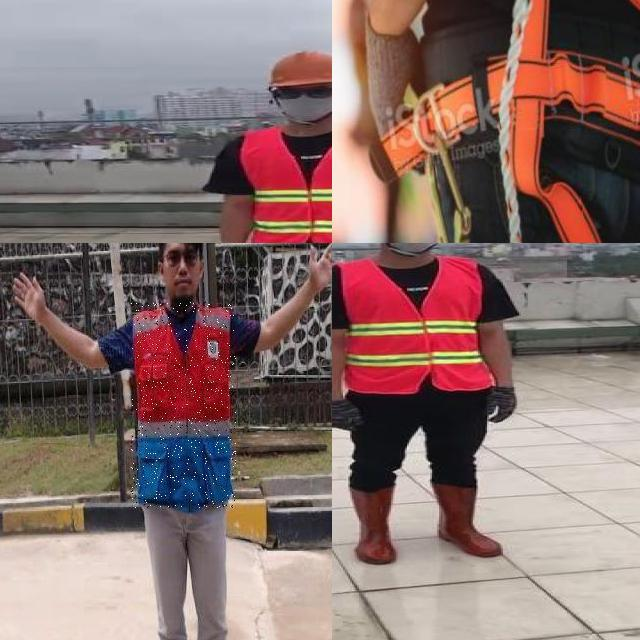Harness: (488, 0, 640, 243)
boots: (421, 482, 507, 558), (343, 485, 405, 565)
face_mask: (271, 83, 332, 121), (378, 243, 446, 251)
glasses: (268, 84, 332, 102)
hand_glove: (487, 386, 524, 422), (332, 398, 362, 431)
head_helmet: (263, 49, 332, 87)
person: (332, 243, 532, 566), (202, 43, 332, 243)
vest: (131, 302, 236, 508), (338, 261, 488, 392), (242, 124, 332, 243)
